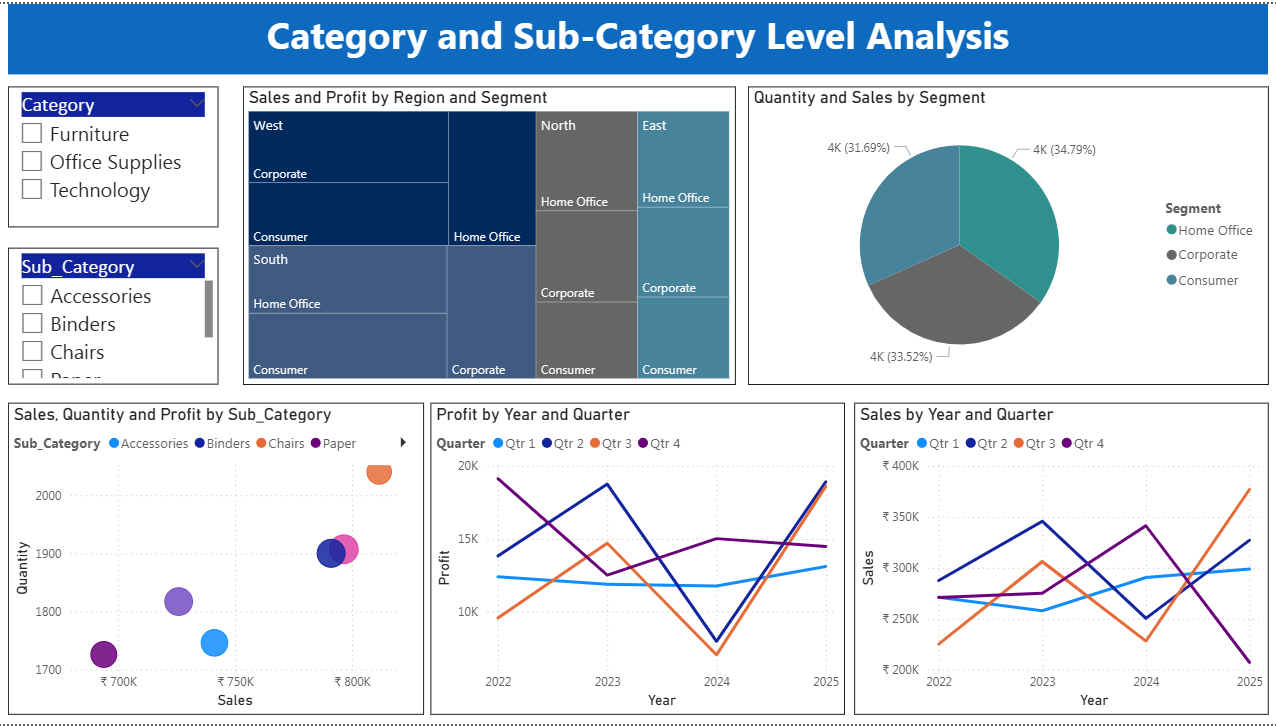

This screenshot's page, from the dashboard's own definition file:
{"tool":"powerbi","page":{"name":"Category and Sub-Category","canvas":[1280,720],"ordinal":2},"visuals":[{"type":"textbox","box":[10,0,1260.1,70],"z":0},{"type":"slicer","fields":{"Values":["Order.Category"]},"box":[10.3,82.4,210.3,141.2],"z":1000},{"type":"slicer","fields":{"Values":["Order.Sub_Category"]},"box":[10.3,244.1,210.3,136.8],"z":2000},{"type":"treemap","fields":{"Group":["Order.Region"],"Details":["Order.Segment"],"Values":["Sum(Order.Sales)"]},"box":[245.6,82.4,492.6,298.5],"z":3000},{"type":"pieChart","fields":{"Category":["Order.Segment"],"Y":["Sum(Order.Quantity)"]},"box":[750,82.4,520.6,298.5],"z":4000},{"type":"scatterChart","fields":{"Series":["Order.Sub_Category"],"X":["Sum(Order.Sales)"],"Y":["Sum(Order.Quantity)"],"Size":["Sum(Order.Profit)"]},"box":[10.3,398.5,416.2,311.8],"z":5000},{"type":"lineChart","fields":{"Category":["Order.Year"],"Series":["Order.Quarter"],"Y":["Sum(Order.Profit)"]},"box":[432.4,398.5,414.7,311.8],"z":6000},{"type":"lineChart","fields":{"Category":["Order.Year"],"Series":["Order.Quarter"],"Y":["Sum(Order.Sales)"]},"box":[855.9,398.5,414.7,311.8],"z":7000}]}

Visuals, with their boxes in screenshot pixels (x1, y1, x2, y2), scaled from the page's 1280x720 canvas onto the 1276x726 screenshot:
textbox: [x1=10, y1=0, x2=1266, y2=71]
slicer - Order.Category: [x1=10, y1=83, x2=220, y2=225]
slicer - Order.Sub_Category: [x1=10, y1=246, x2=220, y2=384]
treemap - Order.Region x Order.Segment: [x1=245, y1=83, x2=736, y2=384]
pieChart - Order.Segment x Sum(Order.Quantity): [x1=748, y1=83, x2=1267, y2=384]
scatterChart - Order.Sub_Category x Sum(Order.Sales): [x1=10, y1=402, x2=425, y2=716]
lineChart - Order.Year x Order.Quarter: [x1=431, y1=402, x2=844, y2=716]
lineChart - Order.Year x Order.Quarter: [x1=853, y1=402, x2=1267, y2=716]
